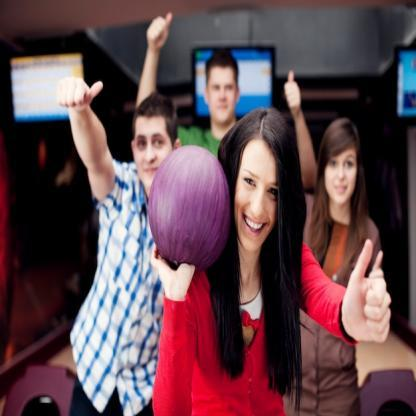thumb_up: (336, 233, 394, 348)
